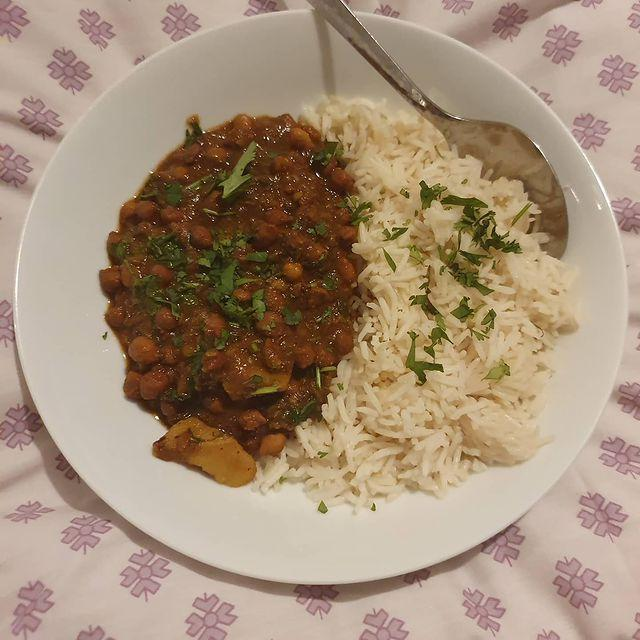Chole: (96, 118, 329, 406)
